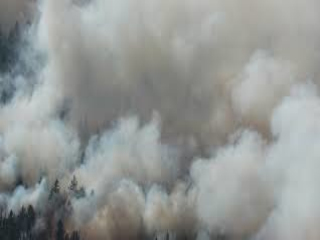smoke: (8, 12, 317, 226)
